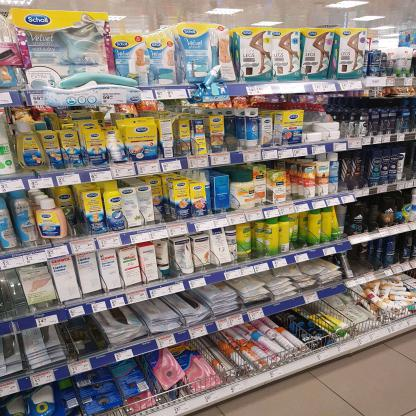Void: (351, 248, 371, 272)
